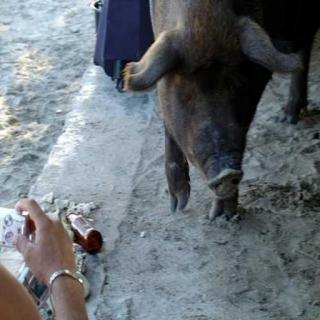Pig: (110, 0, 293, 228)
